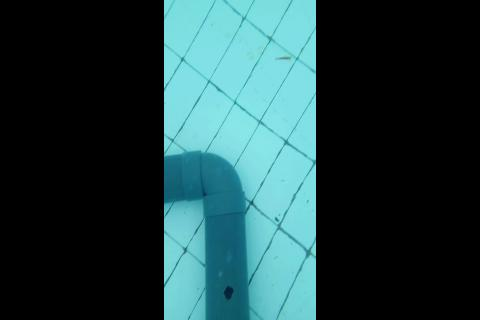kebocoran: (222, 285, 234, 300)
